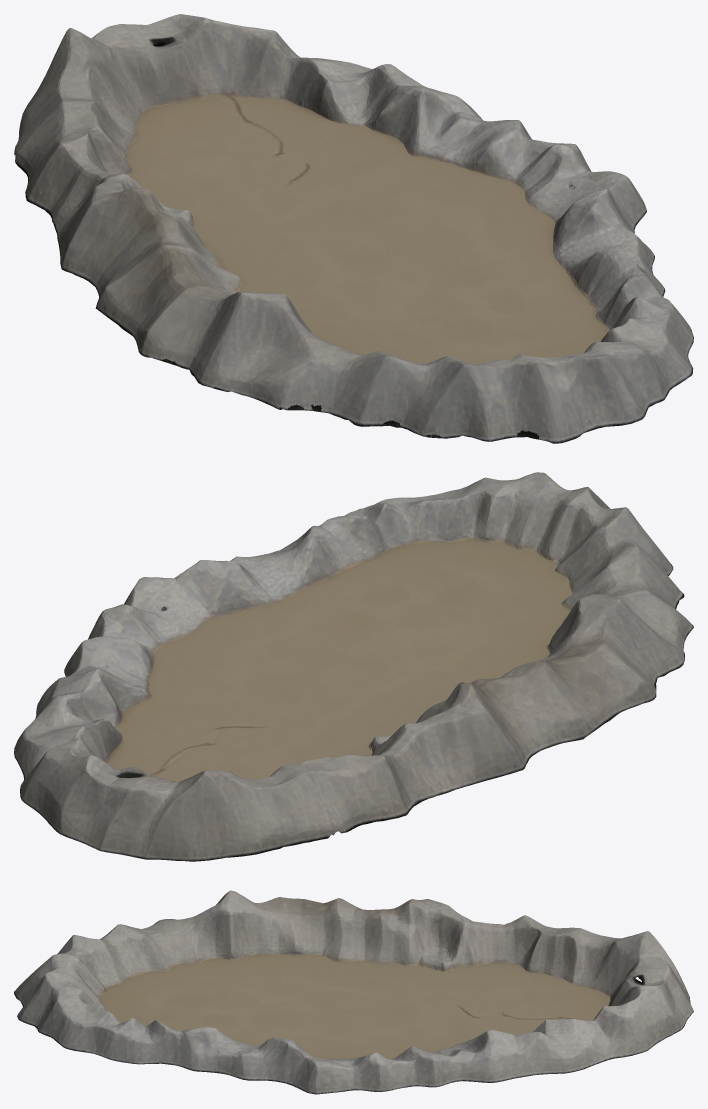
3 views of the same model, one above another, from view 1: azimuth 30°, elevation 25°; view 2: azimuth 150°, elevation 25°; view 3: azimuth 270°, elevation 25° (orthographic). The views are drawn at different scales.
Visible parts, largest first — view 1: world; view 2: world; view 3: world.
Boxes of the visible parts, box(x1,y1,x2,y2) form: world: box(14, 14, 693, 443); world: box(14, 472, 693, 861); world: box(14, 890, 693, 1094).
Size of the model in its own units: 0.6132 by 0.0883 by 0.994.
1 material, 1 textured.
